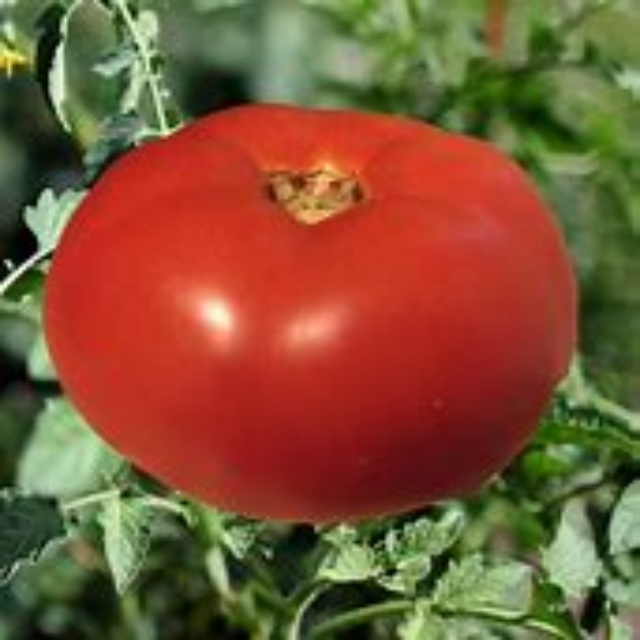tomato: (52, 110, 586, 528)
